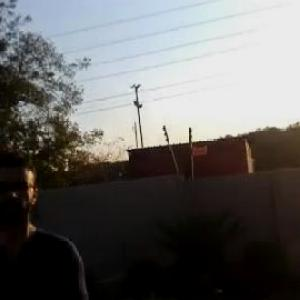follow: (1, 138, 97, 299)
